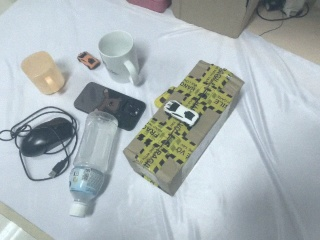bottle: (66, 110, 119, 218)
box: (124, 58, 245, 197), (170, 1, 266, 39)
cup: (99, 29, 145, 87), (20, 50, 69, 97)
mouse: (19, 116, 75, 158)
phone: (73, 83, 148, 132)
toy_car: (164, 97, 202, 129), (154, 84, 176, 108), (77, 51, 101, 70)
